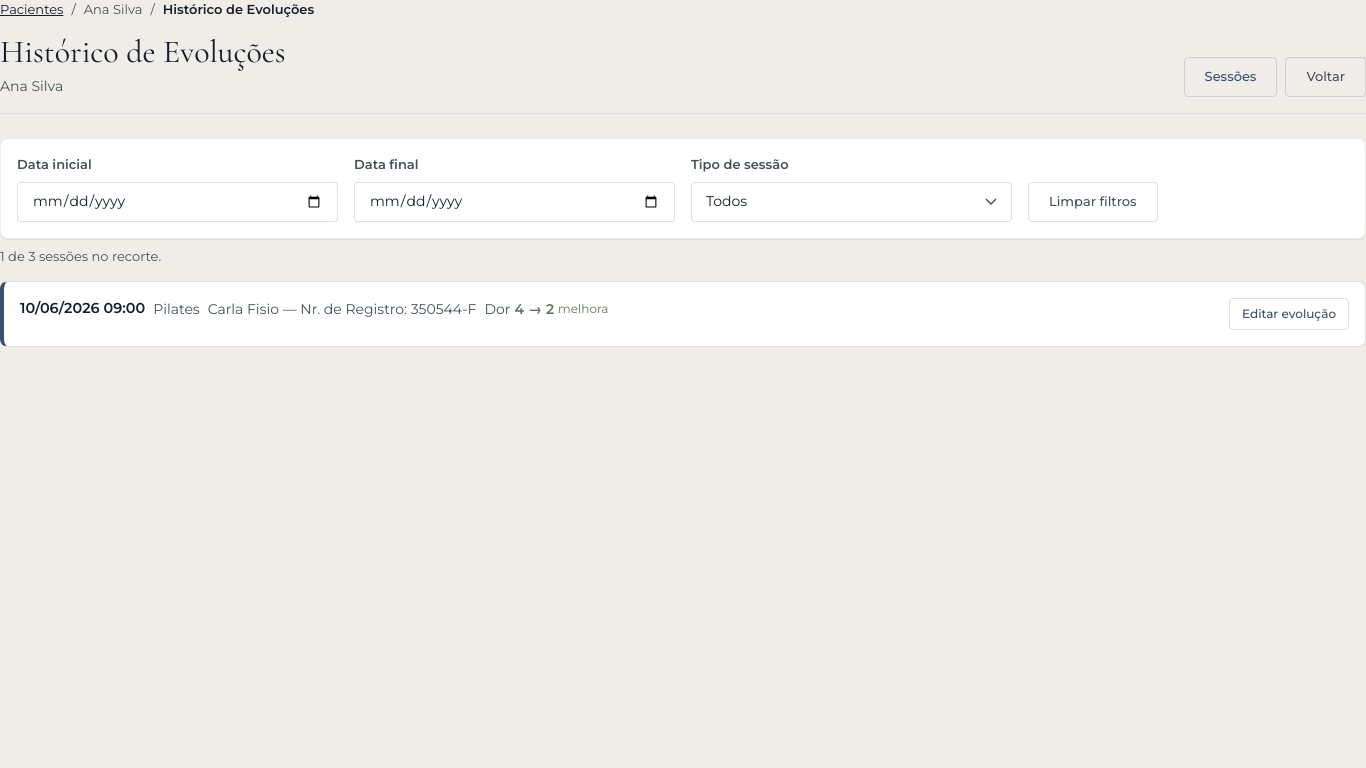
it: PacienteEvolucaoListComponent › filtros › should restore the full collection from the filter bar action
Click the button "Limpar filtros".
click(1093, 202)  # box [1028, 182, 1158, 222]
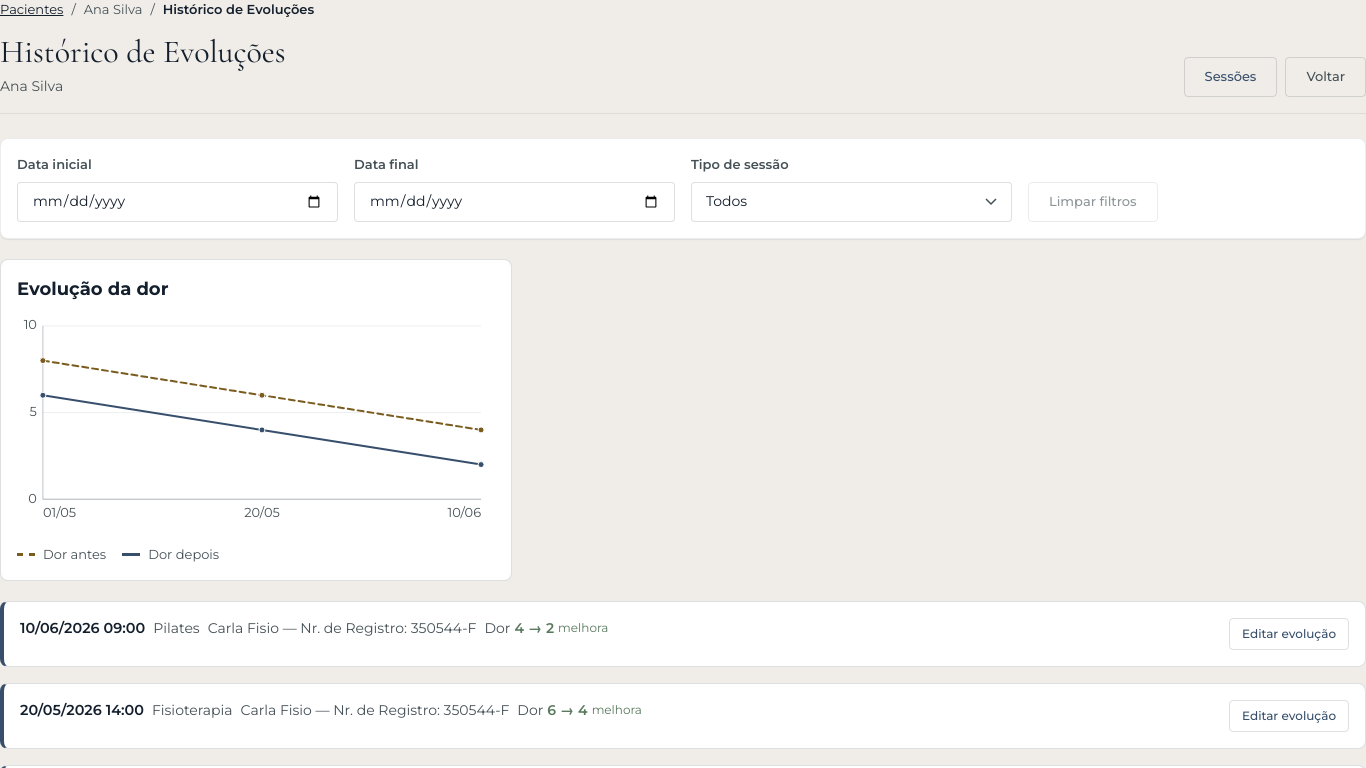
Result: the button "Limpar filtros" is disabled at [1028, 182, 1158, 222]
